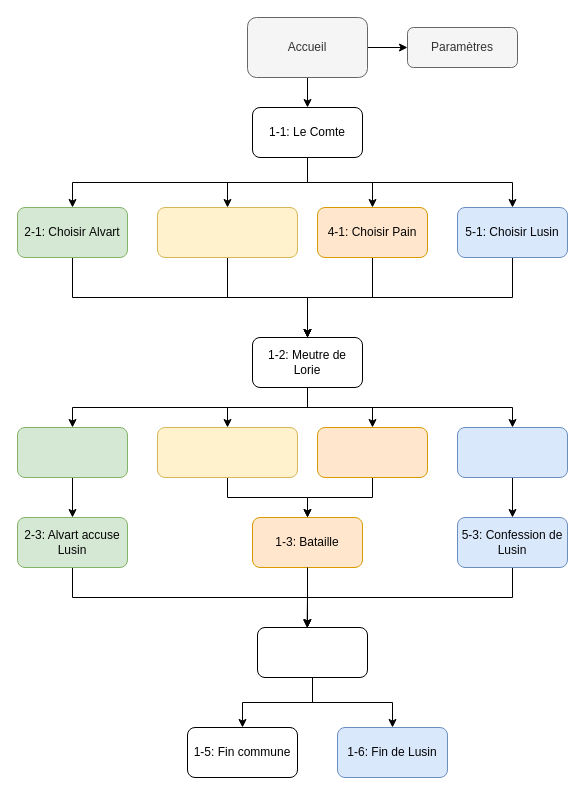
The diagram is 585 pixels wide and 795 high, and some of its shapes have lost their labels. The shapes that lost their labels are listed below. From the top down, each one's centre as x and y in pixels, then its label:
At [227,232]: "3-1: Choisir Cherminon".
At [72,452]: "2-2: Investigation avec Alvart".
At [227,452]: "3-2: Conflit contre Pain".
At [372,452]: "4-2: Conflit contre Cherminon".
At [512,452]: "5-2: Théorie avec Lusin".
At [312,652]: "1-4: Assaut".
